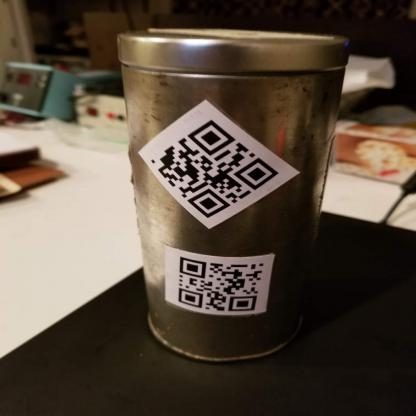qr: (144, 117, 286, 224), (174, 254, 269, 312)
